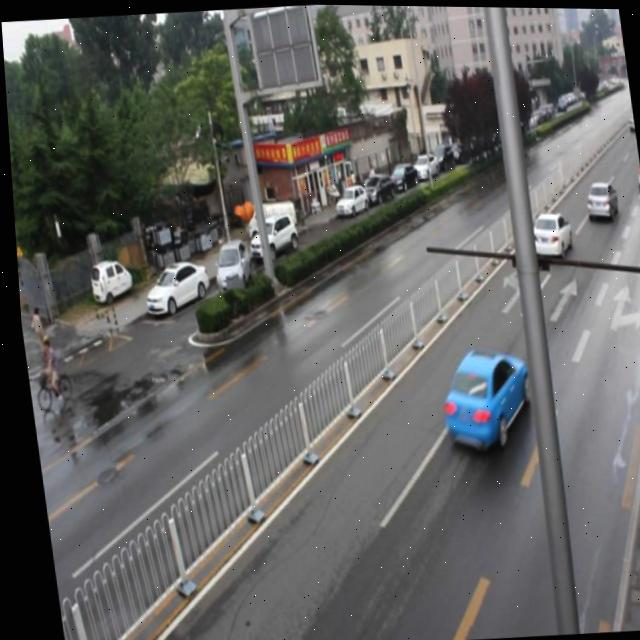car: (429, 341, 531, 448), (521, 206, 571, 263), (577, 175, 616, 223), (628, 153, 640, 195)
